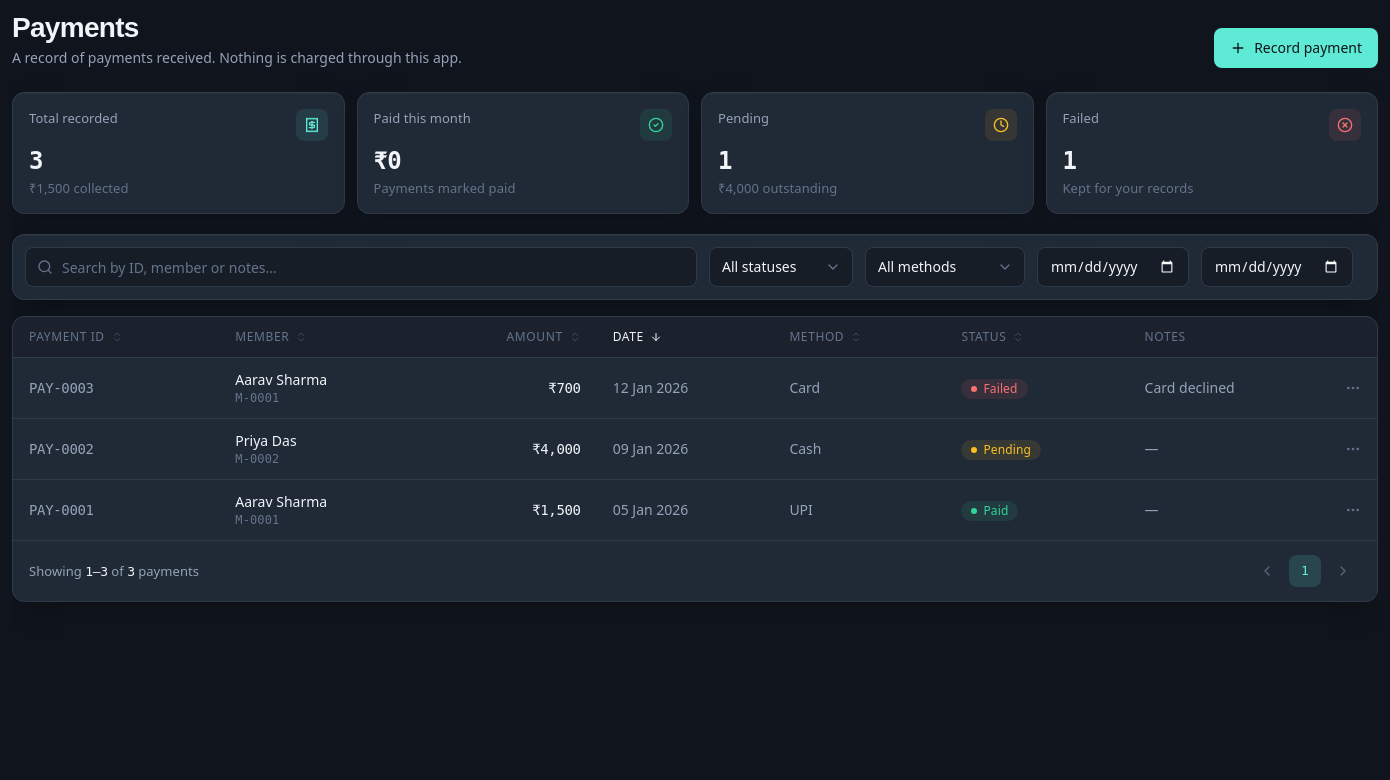
Scenario: Payments page › filters by status and by search text
The image size is (1390, 780).
Expected: the text "PAY-0001" is shown, [13,480,219,540]
Select "Pending" in the dropdown named "Filter by payment status" at (781, 267), box [709,247,853,287]
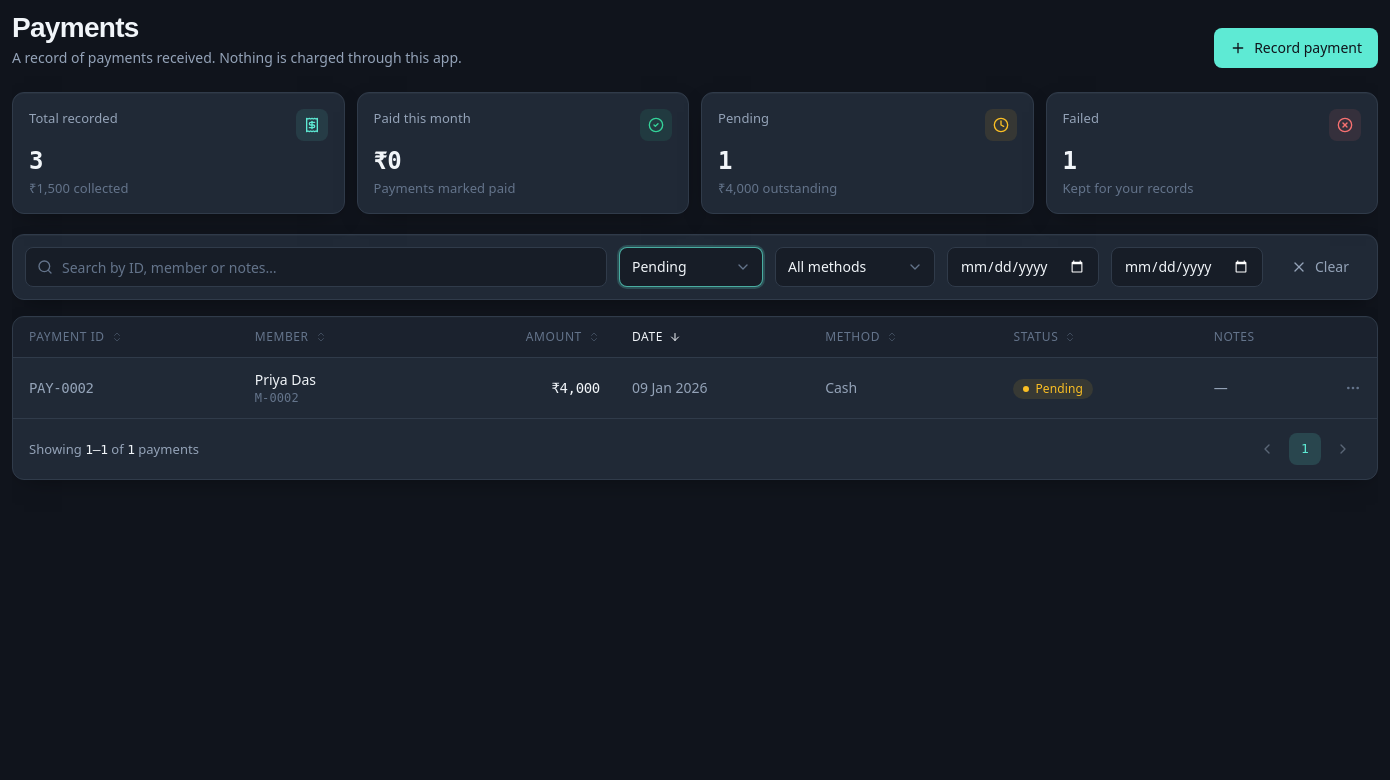
Expected: the text "PAY-0002" is shown, [13,358,239,418]
Result: the text "PAY-0001" is gone
Click the button "Clear".
click(1320, 267)  # box [1275,247,1365,287]
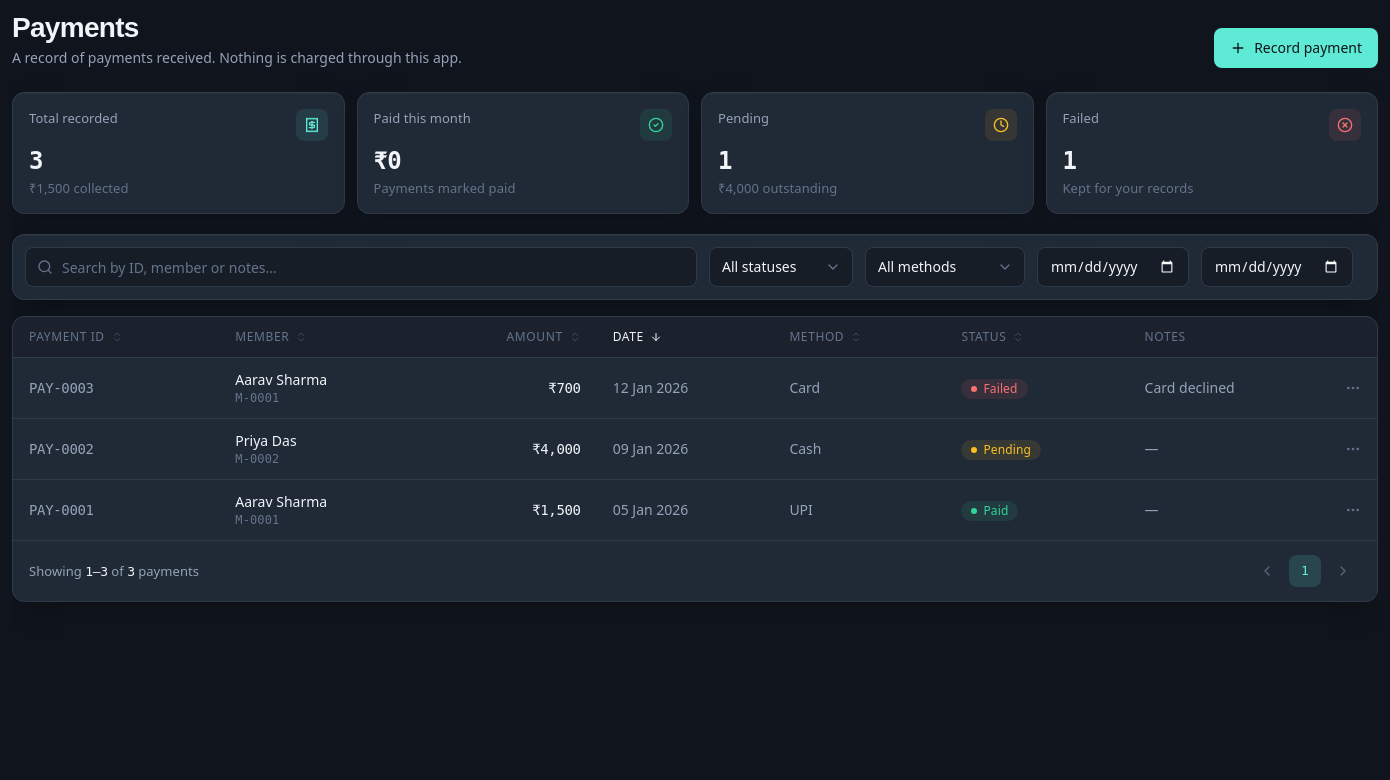
Type "declined" into the search field named "search payments".
click(361, 267); type("declined")  # box [25,247,697,287]
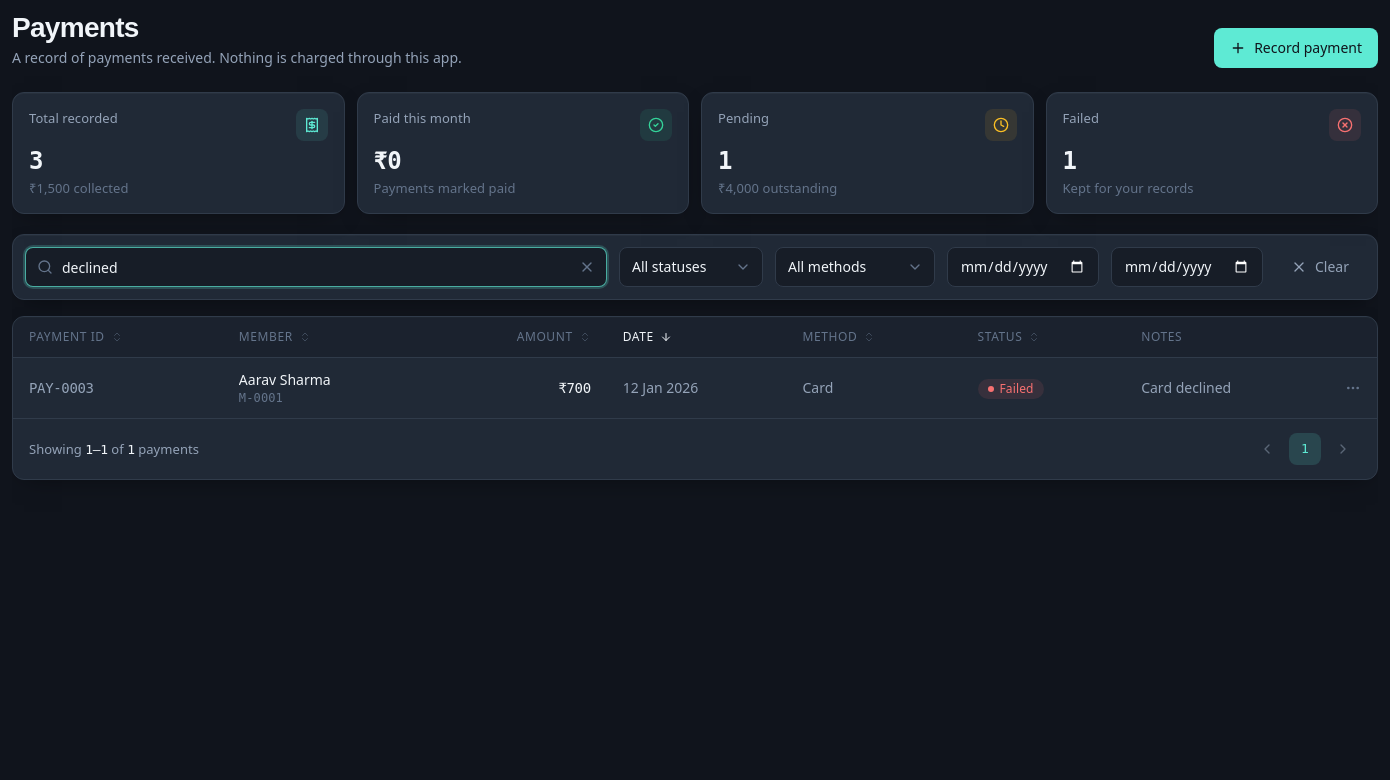
Result: the text "PAY-0003" is shown at [13,358,223,418]
Result: the text "PAY-0001" is gone
